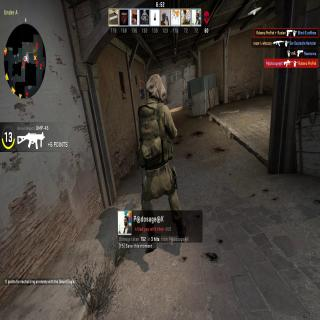CT-Body: (139, 71, 183, 226)
CT-Head: (147, 74, 167, 103)
